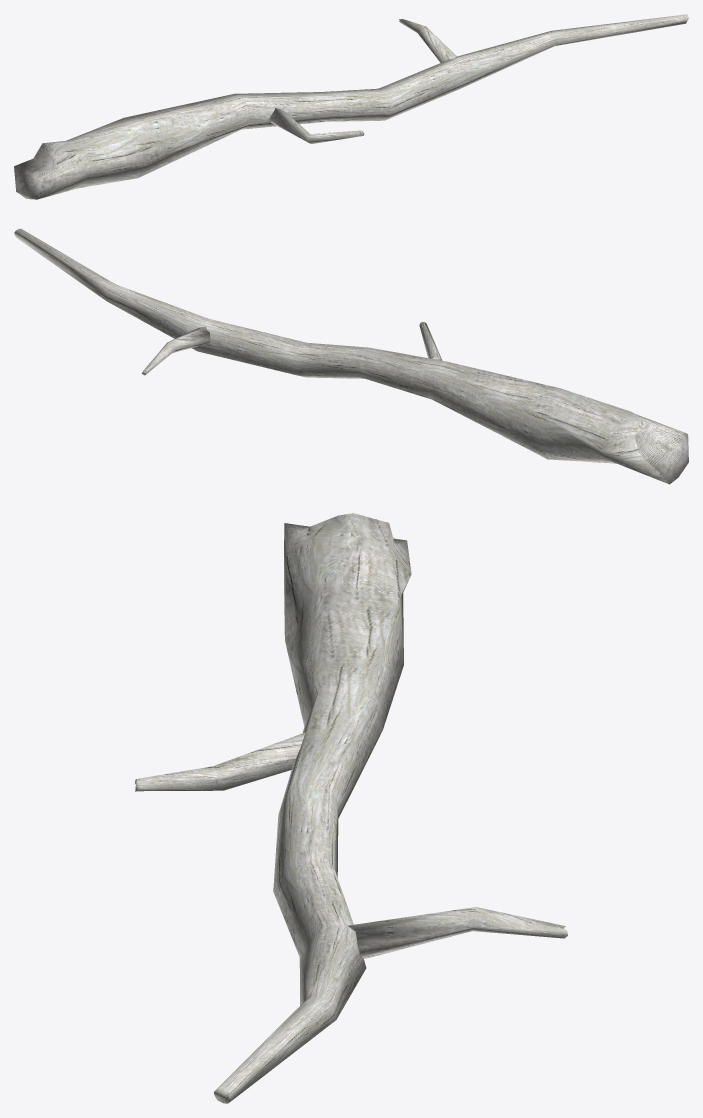
File: shor_driftwood_l0.fbx
3 views of the same model, one above another, from view 1: azimuth 30°, elevation 25°; view 2: azimuth 150°, elevation 25°; view 3: azimuth 270°, elevation 25° (orthographic). The views are drawn at different scales.
Visible parts, largest first — view 1: mesh_node; view 2: mesh_node; view 3: mesh_node.
Part boxes in pixels (x1,y1,x2,y2): mesh_node: (14, 14, 688, 199); mesh_node: (14, 228, 688, 484); mesh_node: (135, 513, 567, 1103).
Bounding box in the file's own units: 5.89 × 0.5055 × 1.74.
